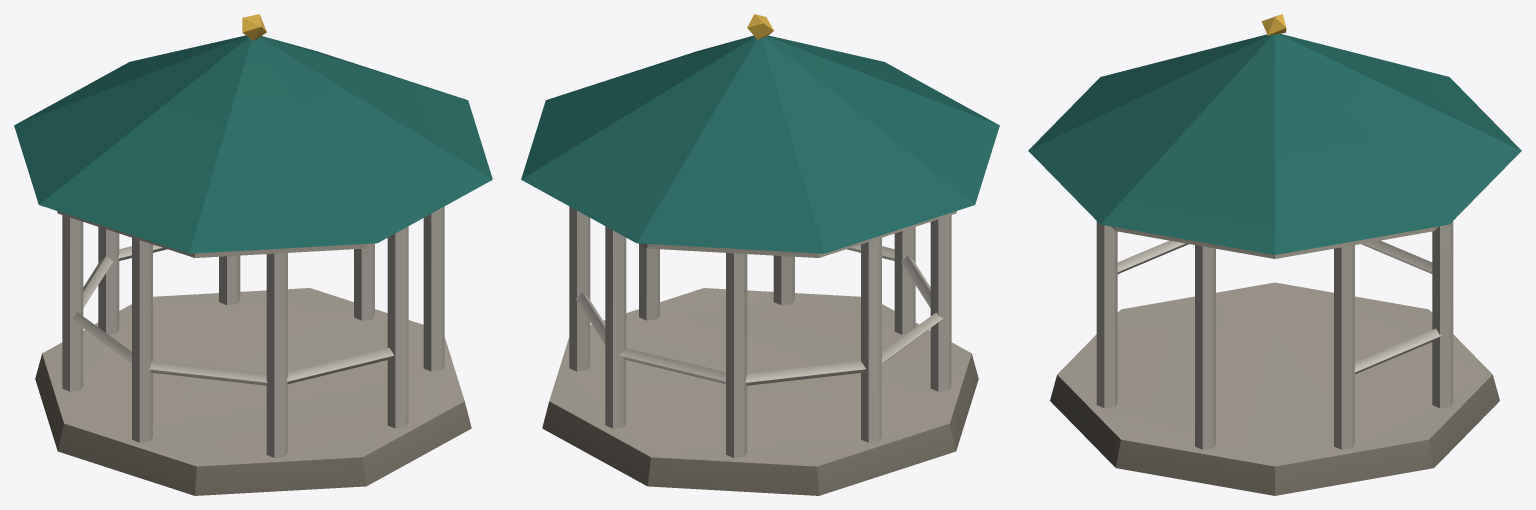
The model's file is gazebo.glb.
3 renders of one model, left to right at view 1: azimuth 30°, elevation 25°; view 2: azimuth 150°, elevation 25°; view 3: azimuth 270°, elevation 25°, orthographic.
Visible parts, largest first — view 1: base; view 2: base; view 3: base.
Part boxes in pixels (left/top/right/bottom): base: left=14, top=14, right=492, bottom=495; base: left=521, top=14, right=999, bottom=495; base: left=1028, top=14, right=1521, bottom=495.
Bounding box in the file's own units: 1.36 × 1.18 × 1.36.
